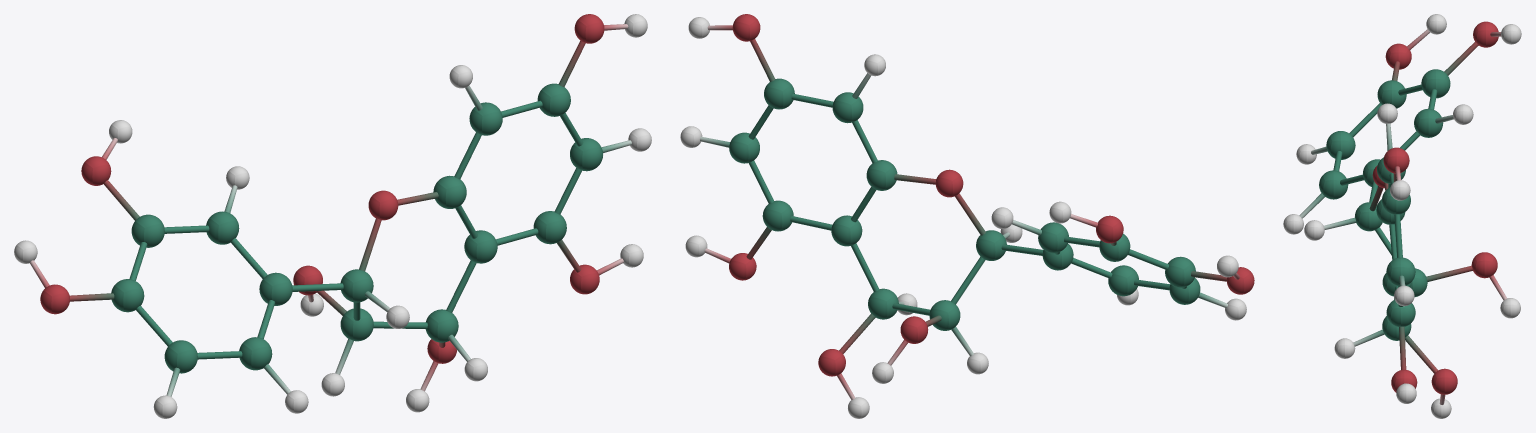
The model's file is Leucocyanidin.fbx.
3 views of the same model, side by side, from view 1: azimuth 30°, elevation 25°; view 2: azimuth 150°, elevation 25°; view 3: azimuth 270°, elevation 25° (orthographic). The views are drawn at different scales.
Parts seen in each view (by area): view 1: curMeshHyperballExportedMesh; view 2: curMeshHyperballExportedMesh; view 3: curMeshHyperballExportedMesh.
Boxes of the visible parts, x1,y1,x2,y2 form: curMeshHyperballExportedMesh: (14,14,651,418); curMeshHyperballExportedMesh: (680,14,1254,418); curMeshHyperballExportedMesh: (1283,14,1521,418).
Size of the model in its own units: 12.06 by 7.09 by 4.62.
